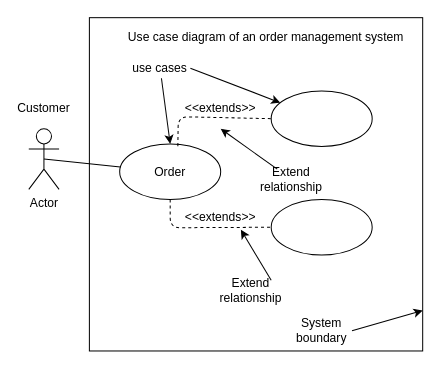
Image size: 448x369. Some labels were removed from this diagram. The shapes that lost their labels are listed below. From the top down, each one's centre as x and y in pixels, then its label:
At point (321, 118): "SpecialOrder".
At point (321, 226): "Normal Order".
